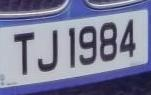1: (63, 22, 80, 73)
4: (117, 15, 140, 64)
8: (97, 17, 120, 65)
9: (76, 20, 101, 70)
J: (36, 25, 63, 78)
T: (9, 25, 38, 81)
